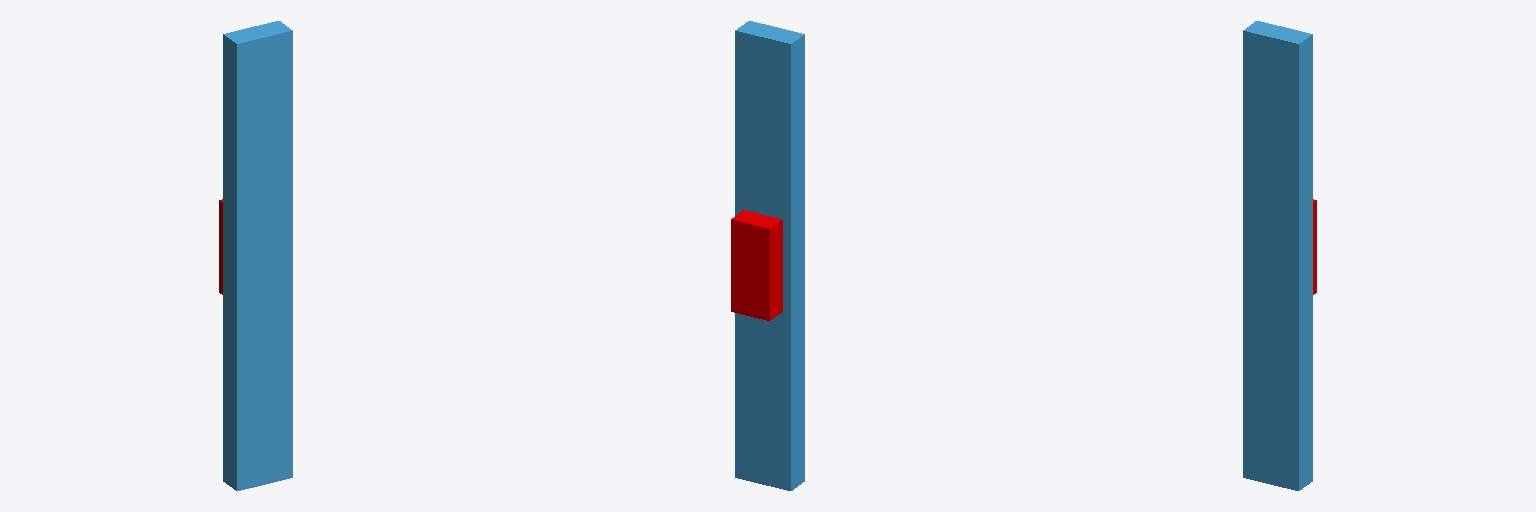
robot.urdf — knife:
<?xml version='1.0' encoding='utf-8'?>
<robot name="knife">
  <link name="link_1">
    <visual name="link_1">
      <origin xyz="0 0.007733 0" rpy="0 0 0" />
      <geometry>
        <box size="0.013096529233076542 0.007403175822382814 0.02979194517417808" /></geometry>
    <material name="red"><color rgba="1 0 0 1" /></material></visual>
    <collision>
      <origin xyz="0 0.007733 0" rpy="0 0 0" />
      <geometry>
        <box size="0.013096529233076542 0.007403175822382814 0.02979194517417808" /></geometry>
    </collision>
    </link>
  <joint name="joint_1" type="prismatic">
    <origin xyz="0 0 0" />
    <axis xyz="0 0 1" />
    <child link="link_1" />
    <parent link="link_0" />
    <limit lower="-0.042037" upper="0.007963" effort="100.0" velocity="1.0" />
  </joint>
  <link name="link_0">
    <visual name="link_0">
      <origin xyz="0 0 0" />
      <geometry>
        <box size="0.0188422142573172 0.00806221410364518 0.14412391557591833" /></geometry>
    </visual>
    <collision>
      <origin xyz="0 0 0" />
      <geometry>
        <box size="0.0188422142573172 0.00806221410364518 0.14412391557591833" /></geometry>
    </collision>
    </link>
</robot>

--- Render facts (derived) ---
The picture shows the robot from 3 angles, left to right: view 1: azimuth 30°, elevation 25°; view 2: azimuth 150°, elevation 25°; view 3: azimuth 330°, elevation 25°; orthographic projection.
Model knife with 2 links and 1 joints (1 prismatic), rooted at link_0, posed all joints at 0.
Links seen in each view (by area): view 1: link_0; view 2: link_0, link_1; view 3: link_0.
Boxes of the visible links, bbox=[...] form: link_0: bbox=[223, 21, 292, 490]; link_0: bbox=[735, 21, 804, 490]; link_1: bbox=[731, 210, 782, 320]; link_0: bbox=[1243, 21, 1312, 490].
Bounding box of the posed robot: 0.0188 × 0.0155 × 0.1441 m (x, y, z).
Geometry: primitives only (box / cylinder / sphere), no mesh files.
